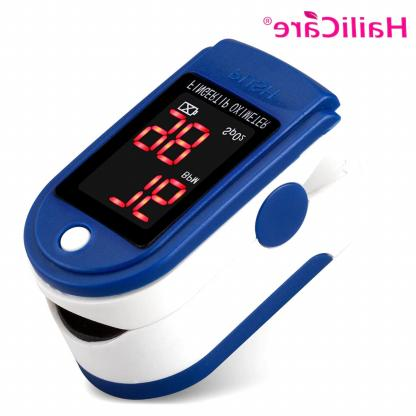Displays: (76, 90, 257, 230)
